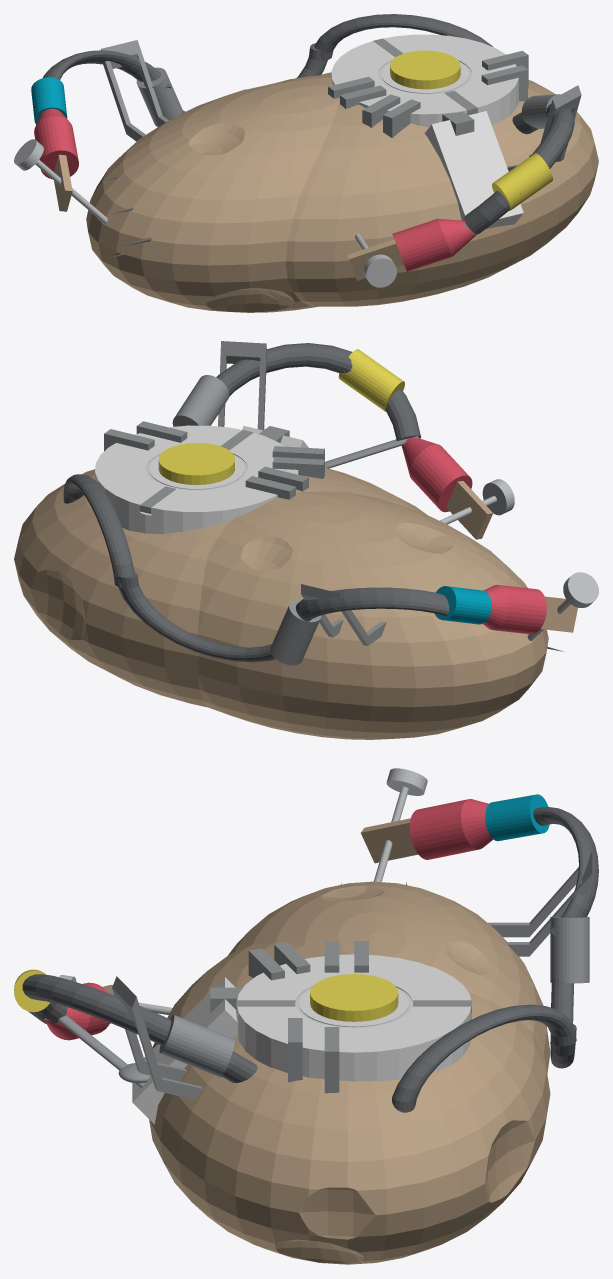
File: GladosPotato.glb
3 renders of one model, top to bottom at view 1: azimuth 30°, elevation 25°; view 2: azimuth 150°, elevation 25°; view 3: azimuth 270°, elevation 25°, orthographic. The views are drawn at different scales.
Visible parts, largest first — view 1: Mesh_Mesh_head_geo.001_lambert2SG.001; view 2: Mesh_Mesh_head_geo.001_lambert2SG.001; view 3: Mesh_Mesh_head_geo.001_lambert2SG.001.
Boxes of the visible parts, x1=… form: Mesh_Mesh_head_geo.001_lambert2SG.001: x1=14, y1=14, x2=598, y2=312; Mesh_Mesh_head_geo.001_lambert2SG.001: x1=14, y1=341, x2=598, y2=739; Mesh_Mesh_head_geo.001_lambert2SG.001: x1=14, y1=768, x2=598, y2=1264.
Bounding box in the file's own units: 59.22 × 24 × 44.71.
